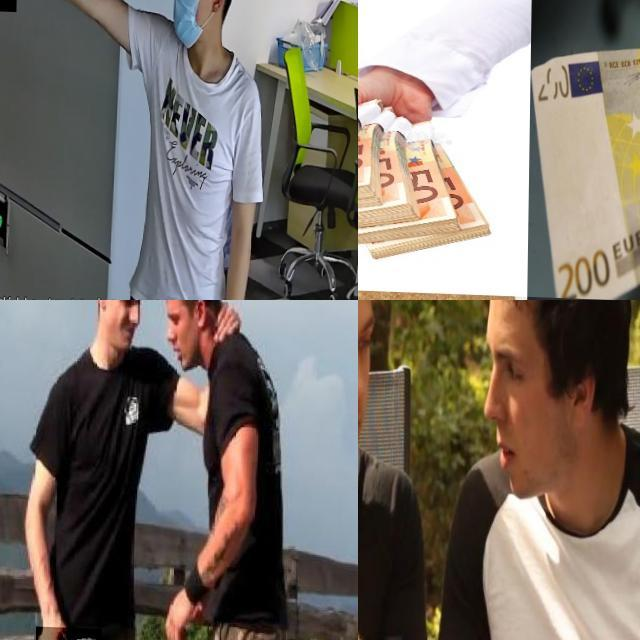-: (36, 625, 103, 640)
gun-knife-thesis - v11 Yolov5 augmented: (0, 0, 32, 49)
